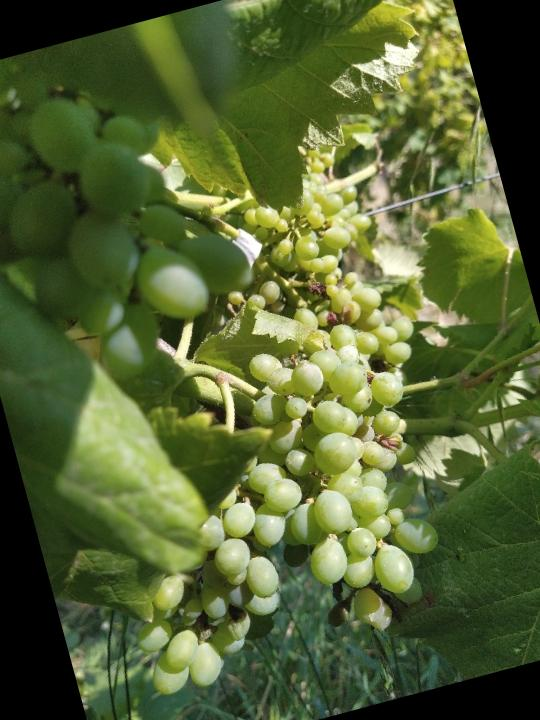grape: (65, 301, 496, 705)
